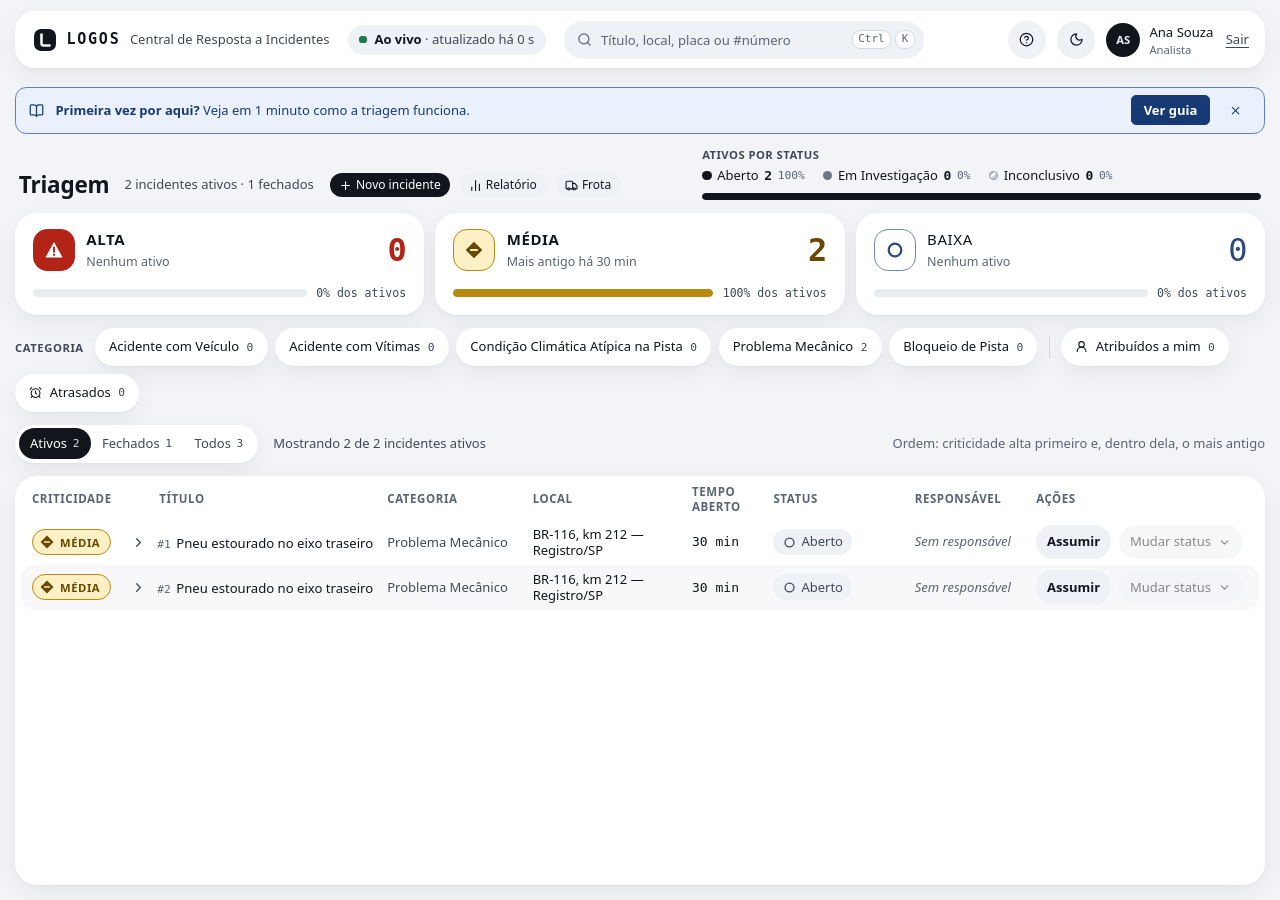
TelaTriagem › "Mesma placa" lista os outros incidentes do caminhão e leva até cada um
Click the button named "Ver detalhes de #1".
click(138, 542)  # box x1=125 y1=529 x2=152 y2=555
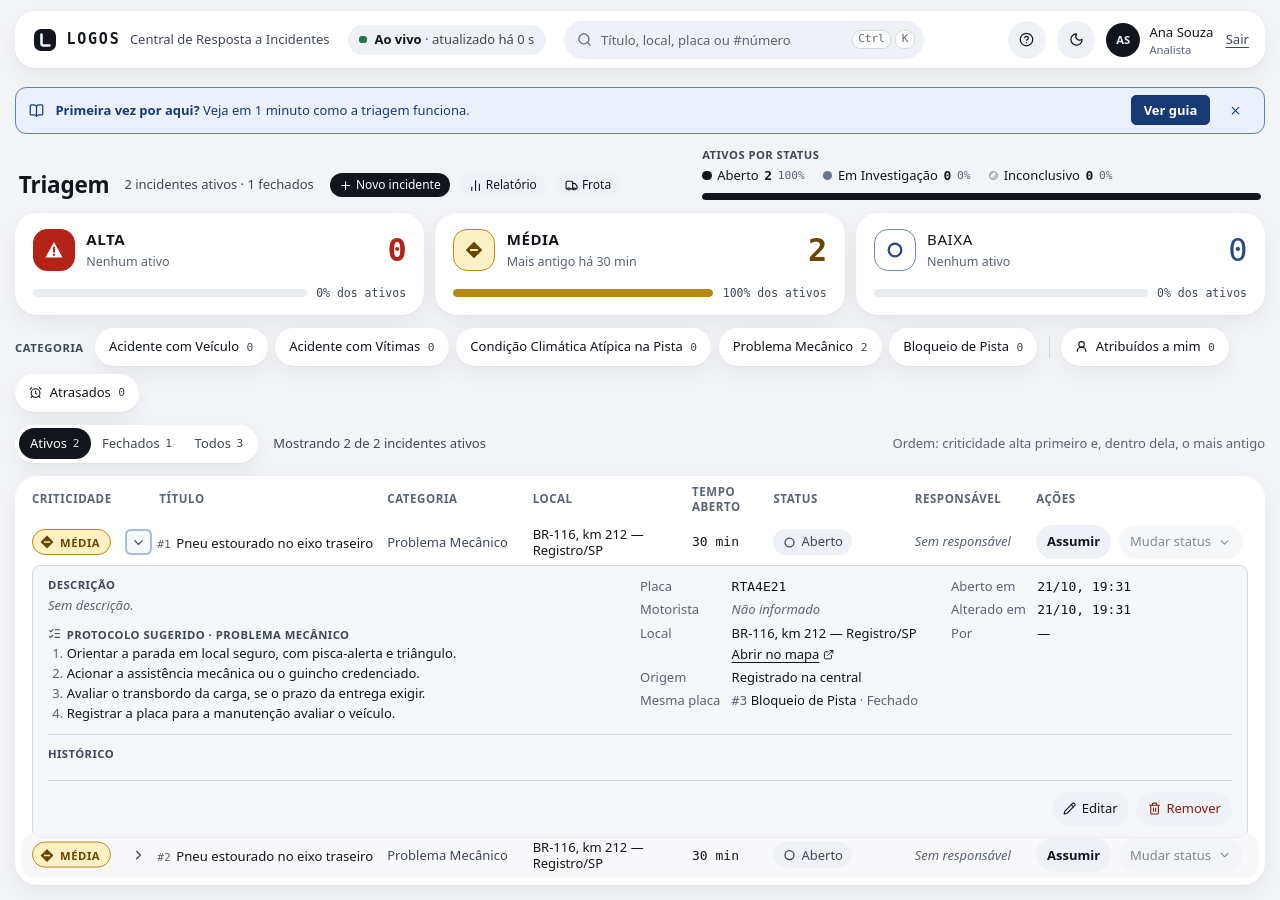
expect the buttons read "#3 Bloqueio de Pista · Fechado", in this order: met, box x1=732 y1=691 x2=918 y2=711
# Placa sem outro incidente: a seção não aparece.
Click the button named "Ver detalhes de #2".
click(138, 870)  # box x1=125 y1=857 x2=152 y2=883
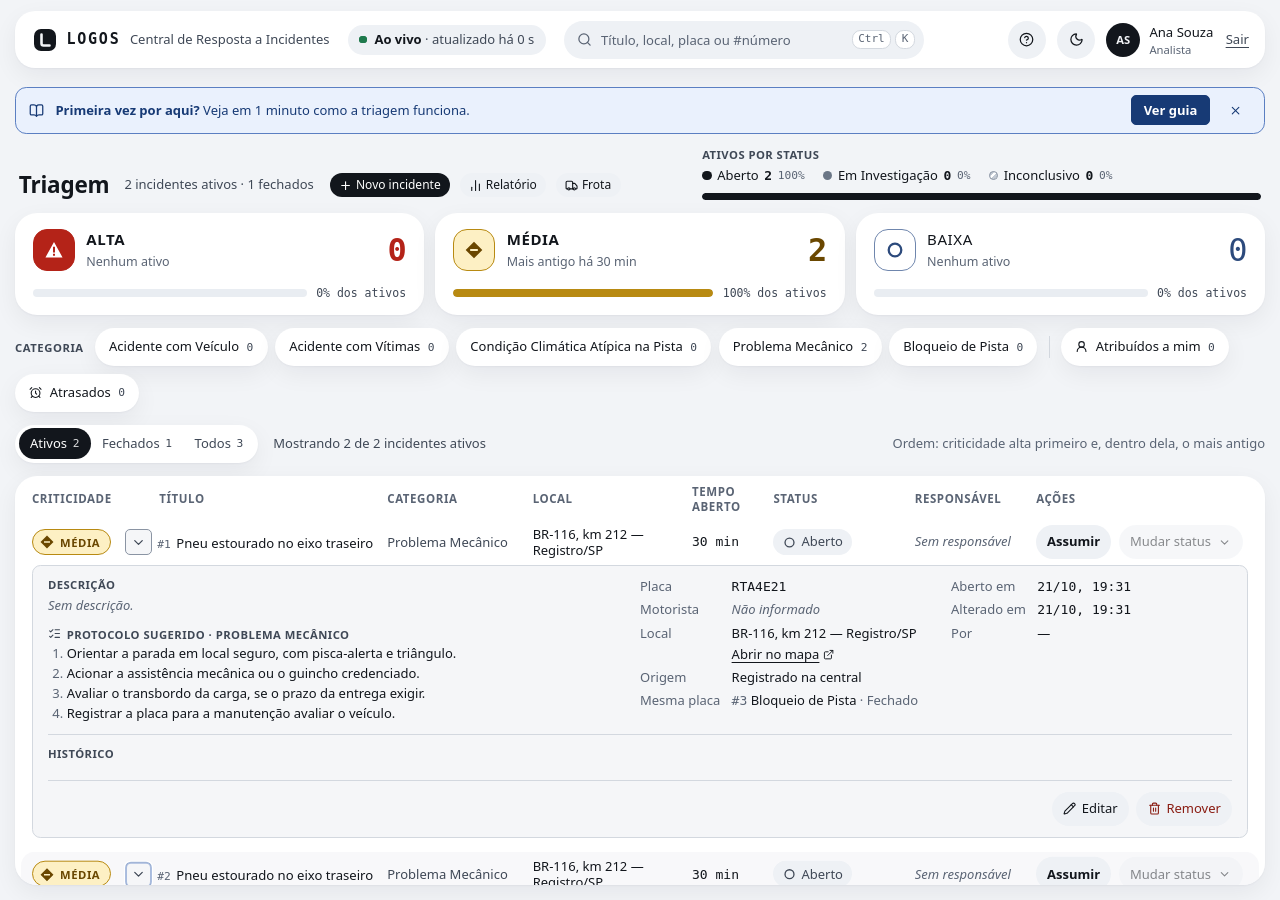
# O #3 está fechado: a lista vai para "Fechados" e acha ele.
Click the button "#3 Bloqueio de Pista · Fechado".
click(825, 701)  # box x1=732 y1=691 x2=918 y2=711
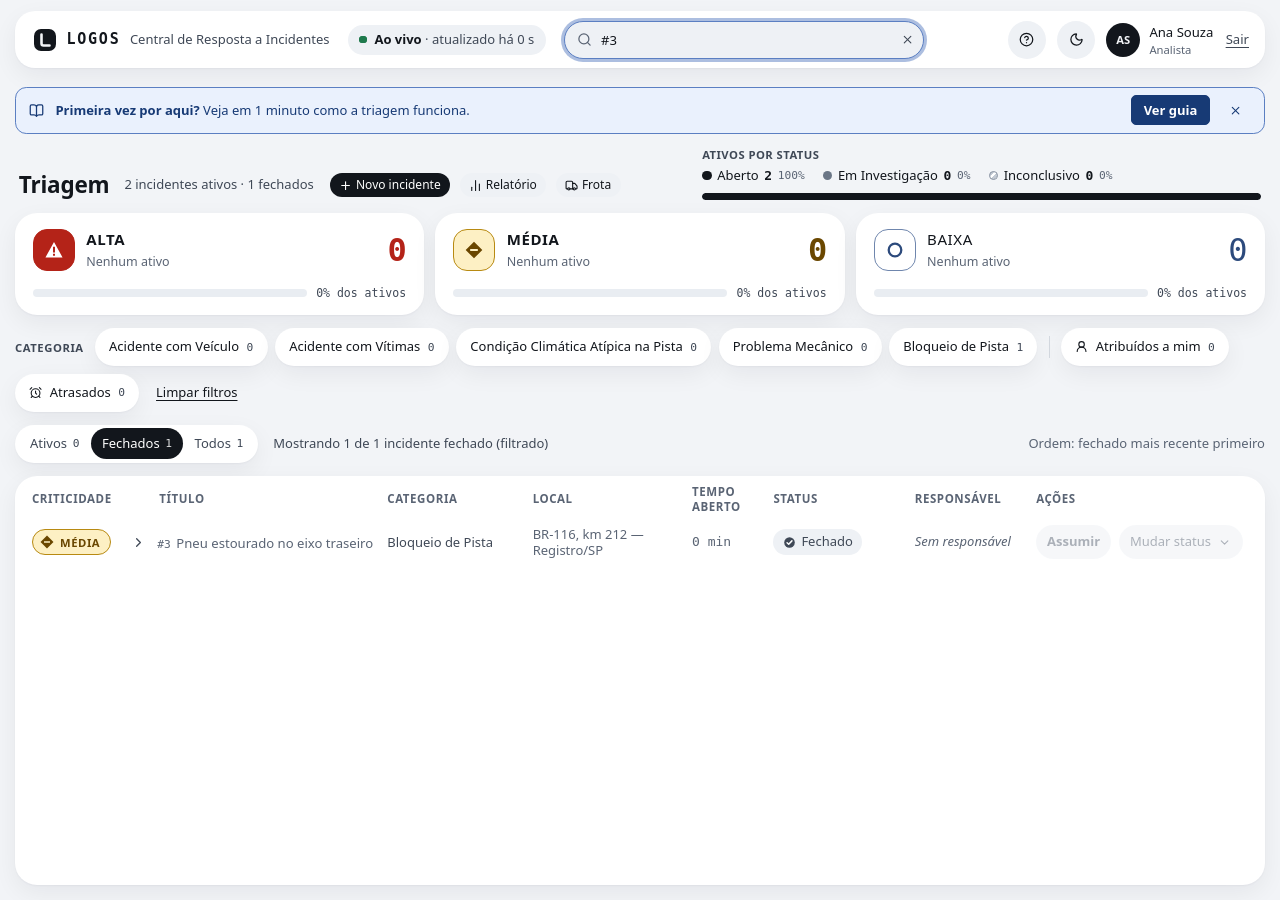
expect the search field named "Buscar incidente" holds "#3": met, box x1=564 y1=21 x2=924 y2=59
